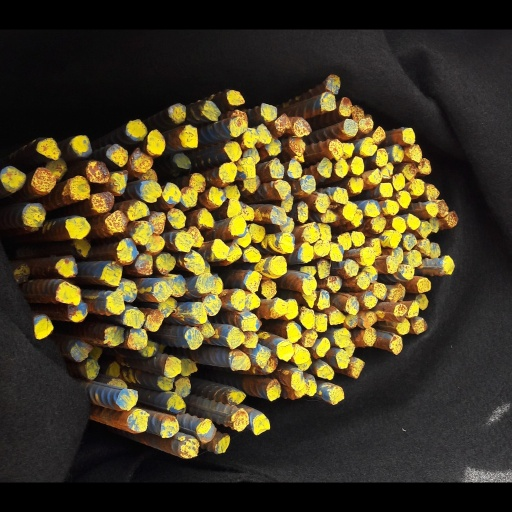dipstick: (0, 153, 26, 185), (31, 155, 56, 184), (35, 121, 61, 148), (55, 284, 80, 312), (65, 211, 91, 236), (129, 133, 152, 161), (21, 196, 45, 222), (85, 148, 109, 173), (68, 165, 90, 192), (106, 128, 128, 155), (117, 235, 139, 262), (33, 320, 53, 349), (69, 119, 91, 145), (229, 90, 248, 120), (132, 215, 152, 243), (196, 439, 216, 467), (139, 170, 162, 194), (125, 101, 147, 126), (105, 204, 127, 229), (147, 113, 166, 141), (106, 294, 125, 322), (103, 261, 122, 289), (127, 193, 150, 216), (92, 183, 114, 207), (67, 306, 88, 331), (117, 405, 138, 430), (179, 459, 199, 485), (229, 362, 251, 385), (127, 430, 148, 454), (231, 427, 249, 455), (128, 337, 148, 362), (184, 251, 204, 276), (179, 106, 197, 133), (46, 146, 67, 169), (124, 315, 145, 338), (167, 202, 187, 226), (160, 436, 179, 461), (175, 227, 194, 252), (119, 283, 137, 309), (185, 336, 203, 362), (103, 335, 124, 357), (162, 171, 180, 196), (244, 272, 262, 297), (111, 159, 127, 187), (238, 142, 255, 168), (153, 284, 172, 307), (57, 254, 75, 278), (211, 235, 229, 259), (252, 434, 270, 458), (168, 82, 186, 106), (146, 316, 163, 341), (169, 277, 186, 302), (227, 336, 244, 361), (218, 150, 237, 172), (156, 254, 175, 276), (71, 352, 89, 375), (202, 80, 220, 103), (269, 255, 287, 278), (209, 176, 226, 200), (204, 300, 221, 324), (277, 350, 294, 374), (150, 206, 166, 231), (191, 307, 207, 332), (196, 276, 215, 297), (180, 178, 198, 200), (163, 370, 181, 392), (293, 99, 311, 121), (269, 198, 287, 220), (135, 254, 152, 277), (229, 210, 246, 233), (224, 126, 241, 149), (274, 169, 291, 192), (268, 144, 284, 168), (158, 304, 177, 324), (167, 412, 185, 433), (359, 121, 377, 142), (175, 393, 191, 416), (294, 354, 310, 377), (297, 240, 313, 263), (303, 217, 319, 240), (320, 70, 336, 93), (267, 394, 281, 420), (241, 321, 260, 340), (405, 129, 422, 150), (189, 162, 205, 184), (198, 201, 214, 223), (328, 402, 344, 424), (289, 120, 305, 142), (334, 337, 350, 359), (86, 372, 100, 397), (231, 293, 245, 318), (189, 223, 204, 246), (256, 359, 271, 382), (279, 230, 294, 253), (301, 277, 316, 300), (328, 124, 343, 147), (342, 193, 357, 216), (173, 139, 191, 158), (146, 233, 165, 251), (157, 389, 175, 408), (260, 82, 277, 102), (361, 266, 378, 286), (275, 94, 291, 115), (261, 283, 277, 304), (285, 304, 299, 328), (300, 164, 316, 185), (318, 143, 332, 167), (245, 297, 260, 319), (243, 111, 258, 133), (287, 146, 302, 168), (315, 185, 330, 207), (360, 245, 375, 267), (141, 352, 159, 370), (227, 408, 246, 425), (301, 339, 318, 358), (316, 348, 330, 371), (326, 50, 340, 73), (200, 328, 216, 348), (182, 372, 198, 392), (266, 122, 282, 142), (244, 164, 260, 184), (412, 325, 428, 345), (361, 295, 377, 315), (370, 210, 386, 230), (409, 168, 425, 188), (215, 458, 230, 479), (250, 219, 265, 240), (345, 301, 360, 322), (344, 258, 359, 279), (352, 371, 365, 395), (390, 344, 403, 368), (287, 331, 301, 353), (290, 385, 304, 407), (300, 317, 314, 339), (336, 361, 350, 383), (334, 145, 348, 167), (317, 378, 334, 396), (226, 68, 244, 85), (243, 134, 260, 152), (314, 237, 330, 256), (74, 237, 89, 257), (327, 278, 342, 298), (343, 100, 358, 120), (396, 182, 411, 202), (442, 254, 455, 277), (372, 285, 386, 306), (302, 294, 316, 315), (337, 228, 351, 249), (243, 247, 261, 263), (364, 193, 380, 211), (258, 106, 271, 128), (364, 336, 377, 358), (394, 309, 407, 331), (351, 142, 364, 164), (339, 76, 352, 98), (273, 304, 288, 323), (391, 211, 406, 230), (403, 151, 418, 170), (229, 242, 243, 262), (227, 191, 241, 211), (363, 317, 377, 337), (356, 274, 370, 294), (318, 258, 330, 281), (297, 193, 308, 218), (315, 321, 328, 342), (330, 241, 343, 262), (372, 109, 385, 130), (383, 193, 399, 210), (333, 179, 348, 197), (396, 325, 410, 344), (407, 249, 421, 268), (403, 230, 417, 249), (350, 166, 364, 185), (418, 145, 432, 164), (318, 293, 330, 315), (350, 203, 363, 223), (369, 236, 382, 256), (389, 227, 402, 247), (329, 317, 345, 333), (417, 279, 431, 297), (359, 99, 373, 117), (376, 134, 388, 155), (351, 227, 365, 245), (386, 255, 398, 276), (388, 291, 402, 309), (400, 265, 414, 283), (368, 156, 382, 174), (210, 279, 223, 298), (245, 341, 258, 360), (402, 110, 415, 129), (407, 207, 420, 226), (242, 196, 254, 216), (281, 186, 293, 206), (392, 129, 404, 149), (106, 375, 120, 392), (226, 175, 240, 192), (426, 175, 439, 193), (265, 369, 277, 388), (416, 298, 428, 317), (352, 85, 364, 104), (391, 246, 403, 265), (429, 240, 441, 259), (393, 162, 405, 181), (446, 205, 458, 224), (379, 173, 393, 189), (320, 205, 337, 218), (421, 235, 431, 257), (437, 192, 448, 212), (408, 305, 419, 324), (421, 216, 432, 235), (425, 194, 437, 211), (343, 127, 354, 145), (382, 150, 393, 168), (346, 321, 358, 337), (91, 357, 102, 373), (346, 350, 355, 369), (429, 213, 439, 230)
